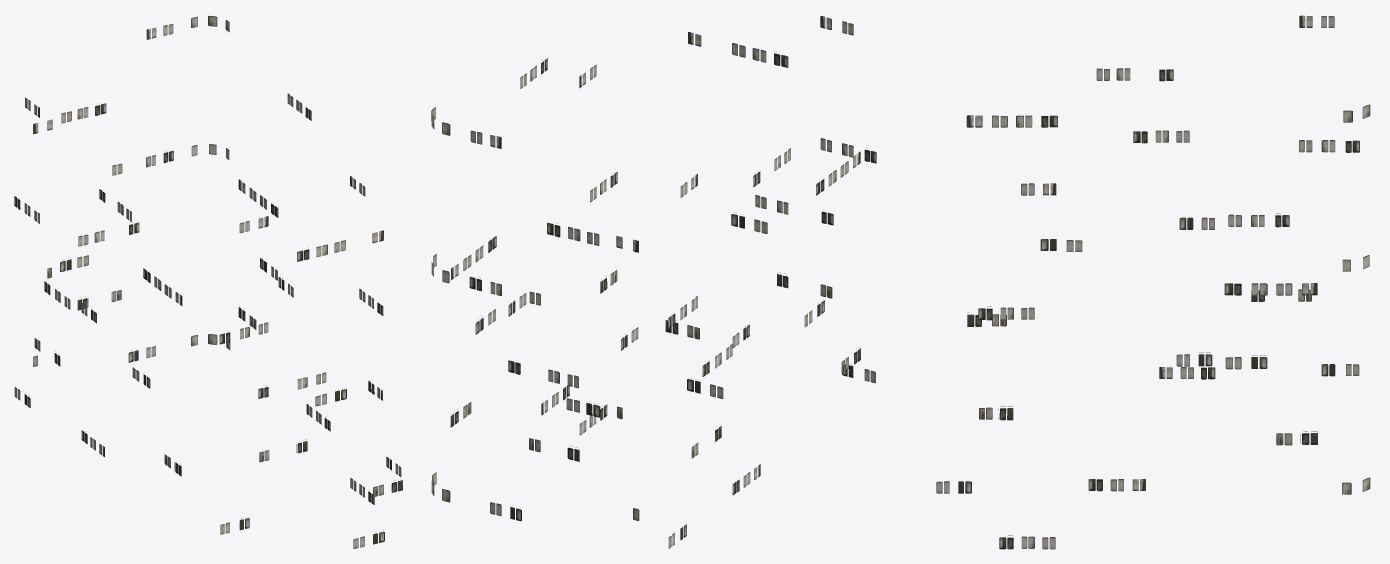
Rendered from ltslabuild6_lan2.obj.
3 views of the same model, side by side, from view 1: azimuth 30°, elevation 25°; view 2: azimuth 150°, elevation 25°; view 3: azimuth 270°, elevation 25° (orthographic). The views are drawn at different scales.
Parts seen in each view (by area): view 1: LTSLAbuild6_LAn2; view 2: LTSLAbuild6_LAn2; view 3: LTSLAbuild6_LAn2.
Boxes of the visible parts, box(x1,y1,x2,y2) form: LTSLAbuild6_LAn2: box(14, 16, 402, 548); LTSLAbuild6_LAn2: box(431, 16, 876, 548); LTSLAbuild6_LAn2: box(936, 15, 1370, 549).
Bounding box in the file's own units: 36.26 × 62.84 × 60.39.
